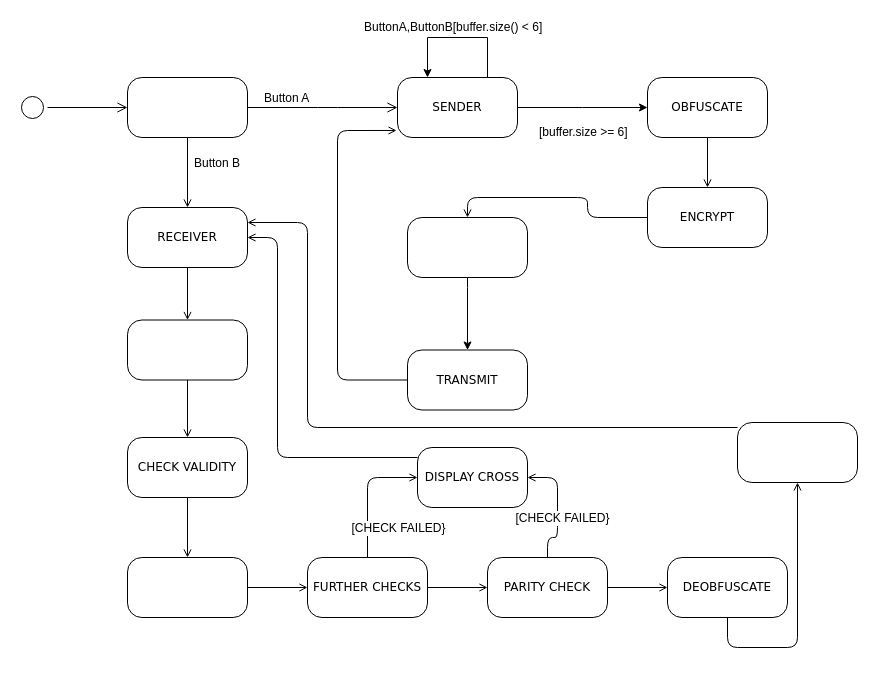
This 875x673 diagram has some shape labels left out. The shapes that lost their labels are listed below. From the top down, each one's centre as x and y in pixels, then its label:
the point at 187,107: DECIDE ROLE
the point at 467,247: SEND
the point at 187,349: PACKET RECEIVED
the point at 797,452: PRINT
the point at 187,587: DECRYPT
